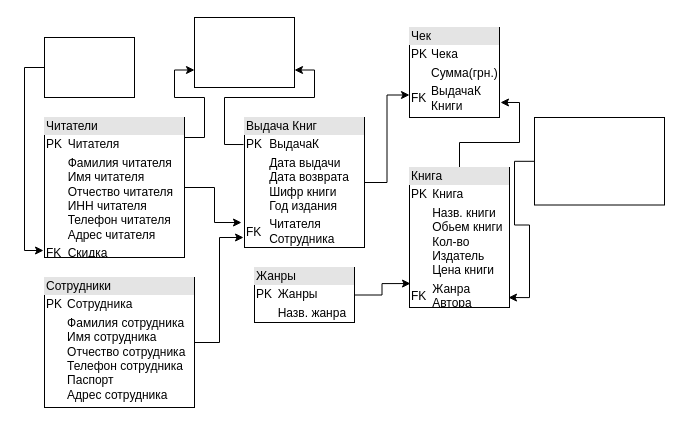
The diagram is 682 pixels wide and 425 high, and some of its shapes have lost their labels. Here are the shapes that lost their labels. From the top down, the centre of each, then its label:
At point 89,67: "Скидка PK Скидка Скидка(%)".
At point 244,52: "Задолжники PK Задолжников FK Читателя ВыдачаК".
At point 599,160: "Авторы PK Автора Фамилия Автора Имя Автора Отчество Автора".
